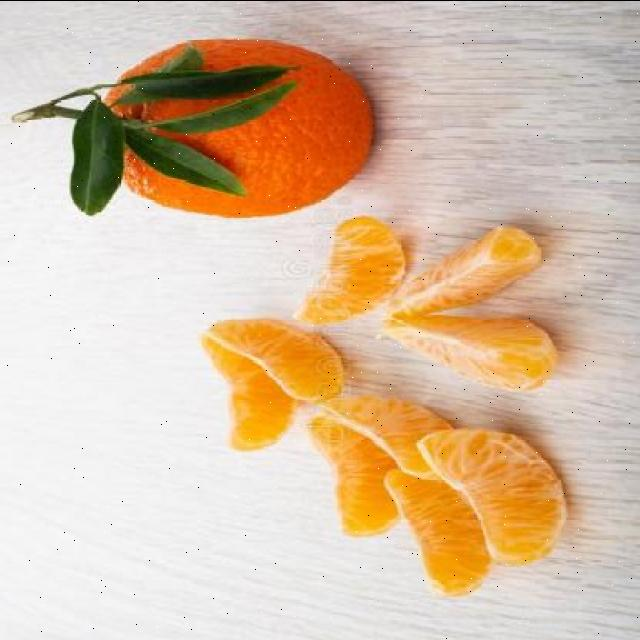Orange: (100, 36, 374, 218)
